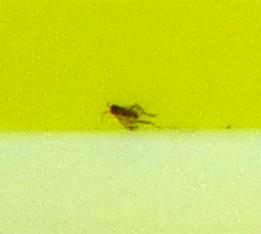Hymenoptera: (100, 100, 161, 134)
